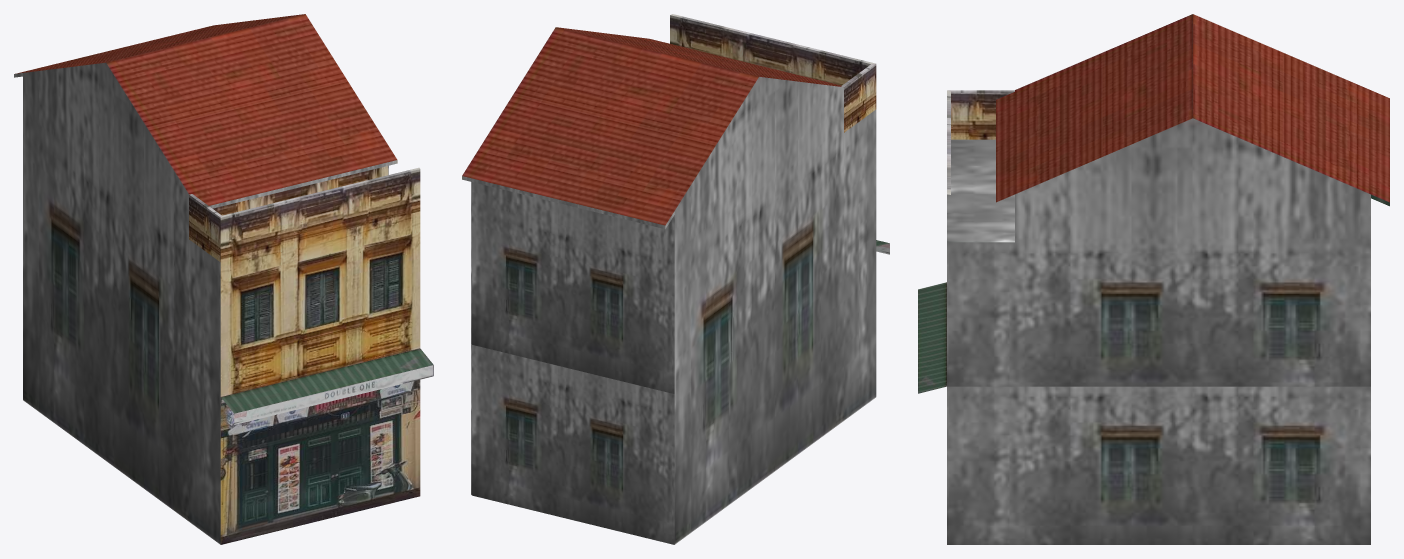
3 views of the same model, side by side, from view 1: azimuth 30°, elevation 25°; view 2: azimuth 150°, elevation 25°; view 3: azimuth 270°, elevation 25° (orthographic). The views are drawn at different scales.
Visible parts, largest first — view 1: HN984_DoubleOne; view 2: HN984_DoubleOne; view 3: HN984_DoubleOne.
Boxes of the visible parts, box(x1,y1,x2,y2) form: HN984_DoubleOne: box(14, 14, 433, 544); HN984_DoubleOne: box(462, 14, 889, 544); HN984_DoubleOne: box(918, 14, 1389, 544).
Size of the model in its own units: 4.68 by 8.89 by 8.9.
1 material, 1 textured.
